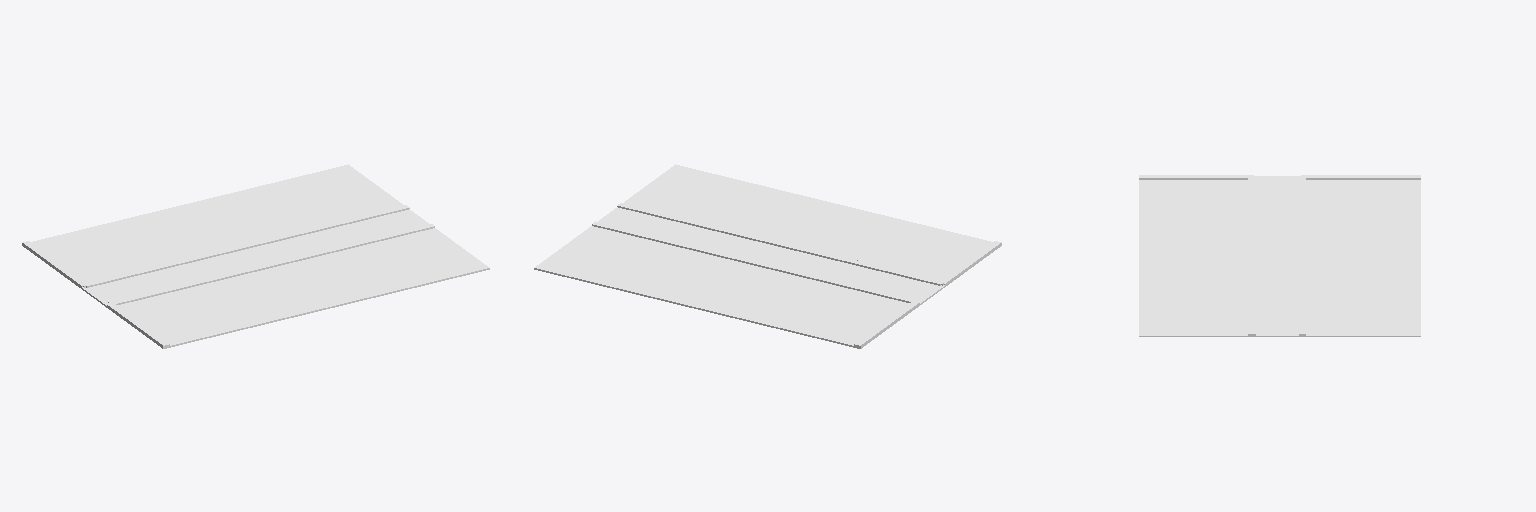
Rendered from Turn.obj.
3 renders of one model, left to right at view 1: azimuth 30°, elevation 25°; view 2: azimuth 150°, elevation 25°; view 3: azimuth 270°, elevation 25°, orthographic.
Parts seen in each view (by area): view 1: object 1; view 2: object 1; view 3: object 1.
Boxes of the visible parts, <box> form: object 1: <box>22,164,489,348</box>; object 1: <box>534,164,1001,348</box>; object 1: <box>1139,175,1420,336</box>.
Bounding box in the file's own units: 20 × 0.2 × 15.